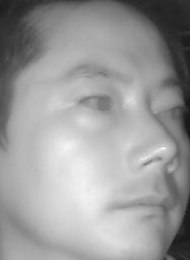eye: (76, 91, 113, 116), (152, 100, 186, 122)
mouth: (111, 187, 177, 224)
